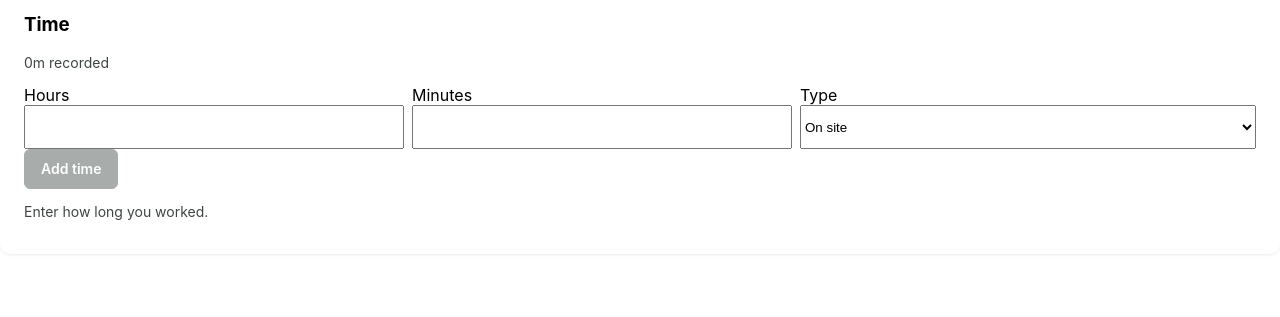
Test: WOL-2: one press records the hours once › a send that committed but lost its answer is queued under the SAME key, so syncing it REPLAYS -- one entry
Step 1. Type "2" into the number field labelled "Hours" → x=214, y=127, box [24,105,404,149]
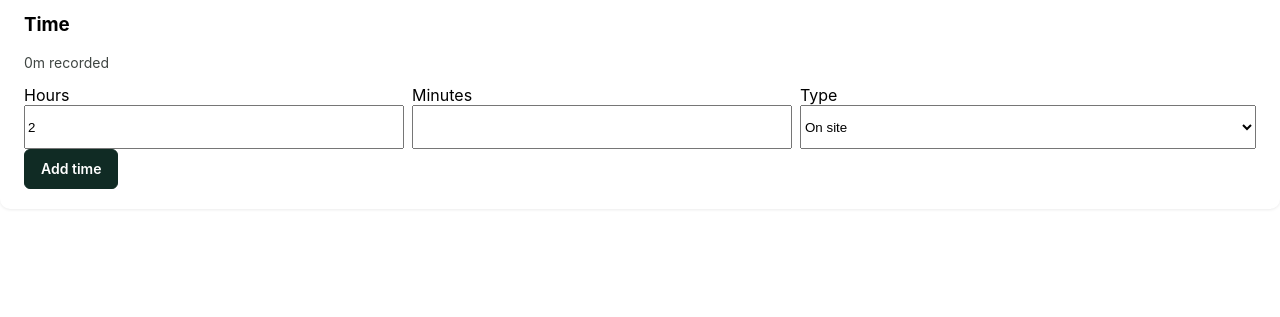
Step 2. Type "0" into the number field labelled "Minutes" → x=602, y=127, box [412,105,792,149]
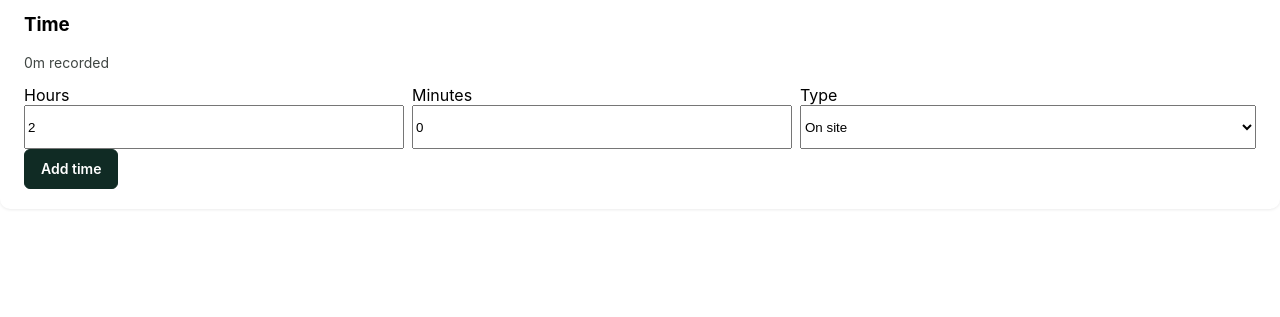
Step 3. Click the button "Add time" → x=71, y=169, box [24,149,118,189]
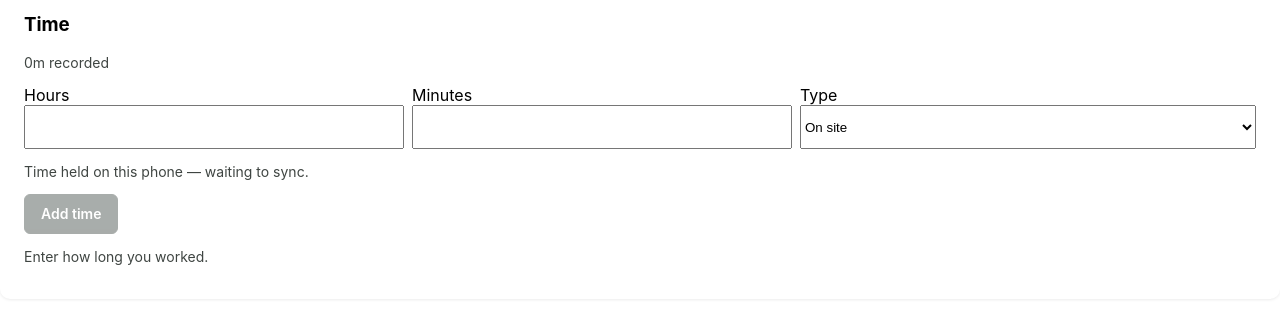
Check: the text "Time held on this phone — waiting to sync." is shown, box [24,163,309,180]
